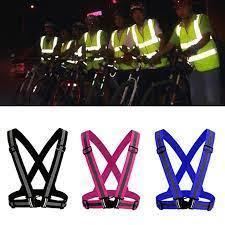Vest: (177, 18, 221, 72), (134, 18, 167, 67), (82, 30, 106, 70)
